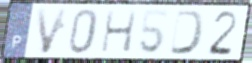0: (67, 7, 100, 56)
2: (207, 9, 239, 56)
5: (139, 8, 171, 57)
D: (168, 9, 208, 56)
H: (99, 9, 140, 55)
V: (35, 6, 71, 56)
